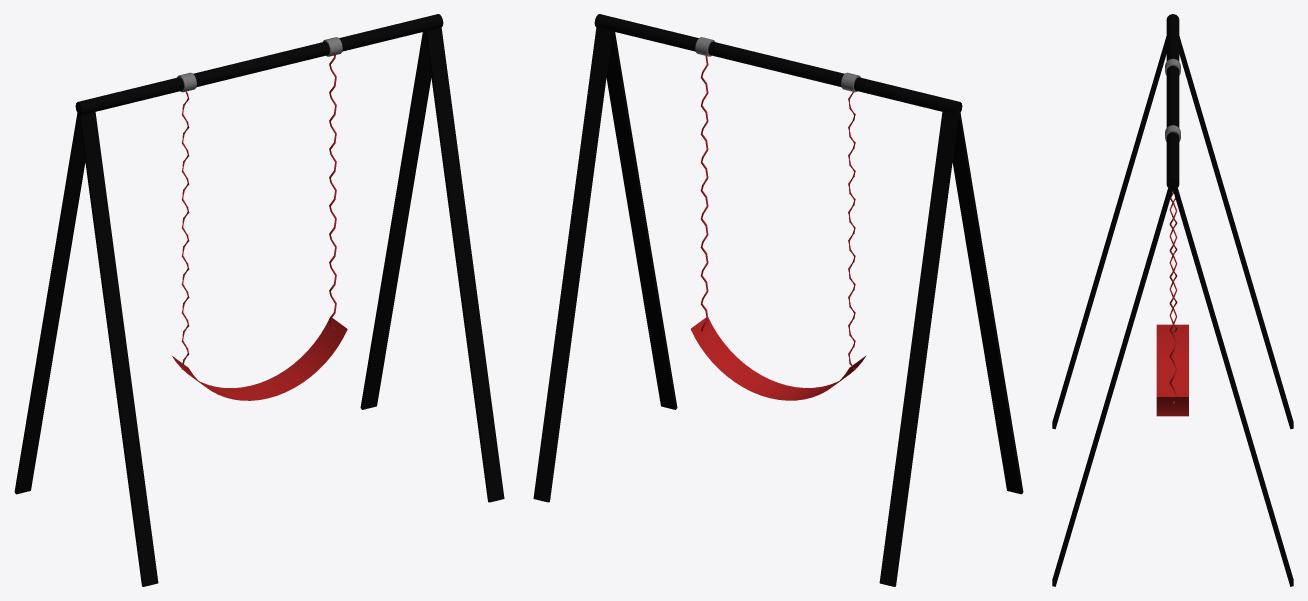
The model's file is swing_001.obj.
The picture shows the model from 3 angles, left to right: view 1: azimuth 30°, elevation 25°; view 2: azimuth 150°, elevation 25°; view 3: azimuth 270°, elevation 25°; orthographic projection. The views are drawn at different scales.
Parts seen in each view (by area): view 1: Cylinder001, Cylinder002, Spring001; view 2: Cylinder001, Cylinder002, Spring001; view 3: Cylinder001, Cylinder002, Spring001.
Boxes of the visible parts, left/top/right/bottom form: Cylinder001: left=14, top=14, right=504, bottom=586; Cylinder002: left=172, top=316, right=347, bottom=400; Spring001: left=181, top=55, right=336, bottom=369; Cylinder001: left=533, top=14, right=1023, bottom=586; Cylinder002: left=690, top=317, right=866, bottom=400; Spring001: left=700, top=56, right=855, bottom=370; Cylinder001: left=1052, top=14, right=1293, bottom=586; Cylinder002: left=1156, top=324, right=1188, bottom=416; Spring001: left=1169, top=191, right=1177, bottom=404.
Size of the model in its own units: 60 by 69.86 by 37.23.
